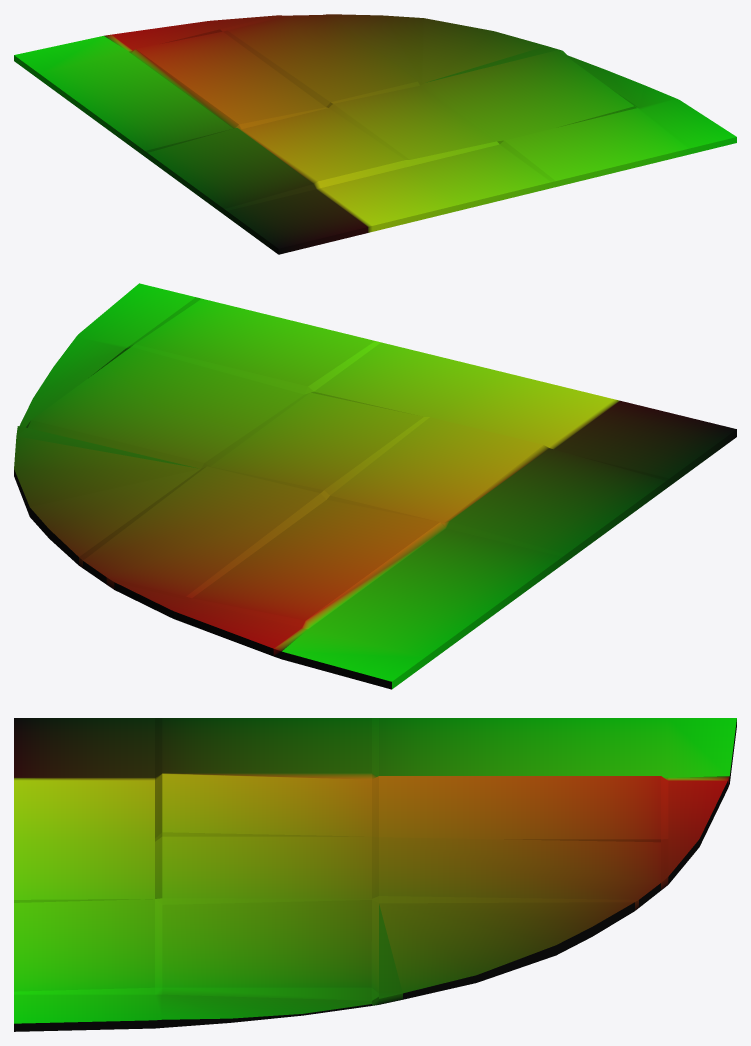
The model's file is SM_Human_Sidewalks_Ronded1010_01.FBX.
The picture shows the model from 3 angles, top to bottom: view 1: azimuth 30°, elevation 25°; view 2: azimuth 150°, elevation 25°; view 3: azimuth 270°, elevation 25°; orthographic projection. The views are drawn at different scales.
Parts seen in each view (by area): view 1: Plane463; view 2: Plane463; view 3: Plane463.
Part boxes in pixels (box(x1,y1,x2,y2)): Plane463: box(14, 14, 736, 254); Plane463: box(14, 283, 736, 689); Plane463: box(14, 718, 736, 1031).
Bounding box in the file's own units: 1000 × 22.5 × 1000.
